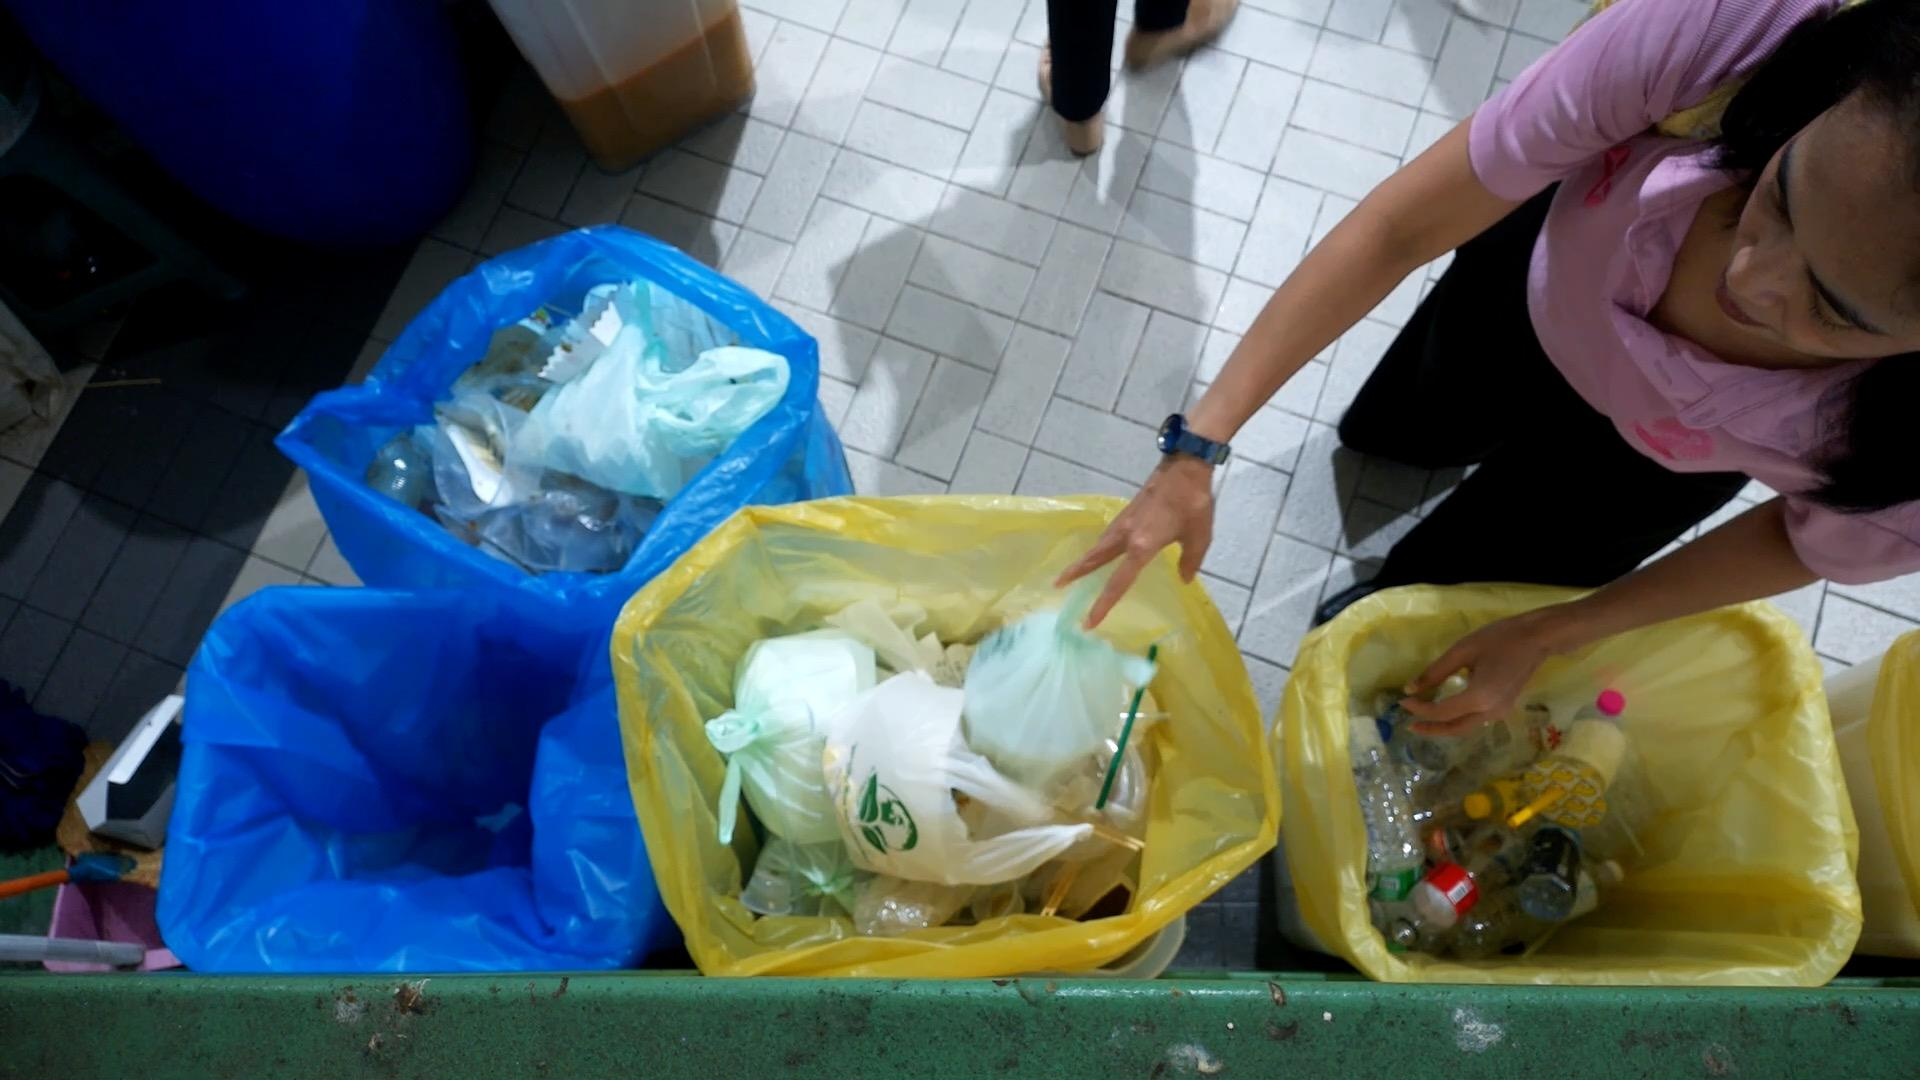can: (1522, 803, 1585, 928)
filled plastic bag: (824, 670, 1093, 886), (498, 277, 708, 508), (709, 626, 884, 849), (963, 579, 1126, 782)
food container: (427, 390, 547, 520), (537, 282, 630, 384), (965, 874, 1023, 930), (740, 872, 796, 918)
plastic bag: (638, 310, 791, 465)
plastic bottle: (1381, 803, 1542, 947), (1447, 860, 1625, 961), (1342, 695, 1437, 874), (1572, 698, 1633, 796)
plastic cup: (1520, 712, 1623, 829)
plastic cutlery: (444, 418, 508, 505)
sticks: (1054, 806, 1149, 856), (1042, 852, 1089, 924)
straw: (1104, 642, 1163, 829), (769, 756, 808, 913), (1507, 787, 1563, 829)
tissue paper: (1545, 717, 1631, 789)
